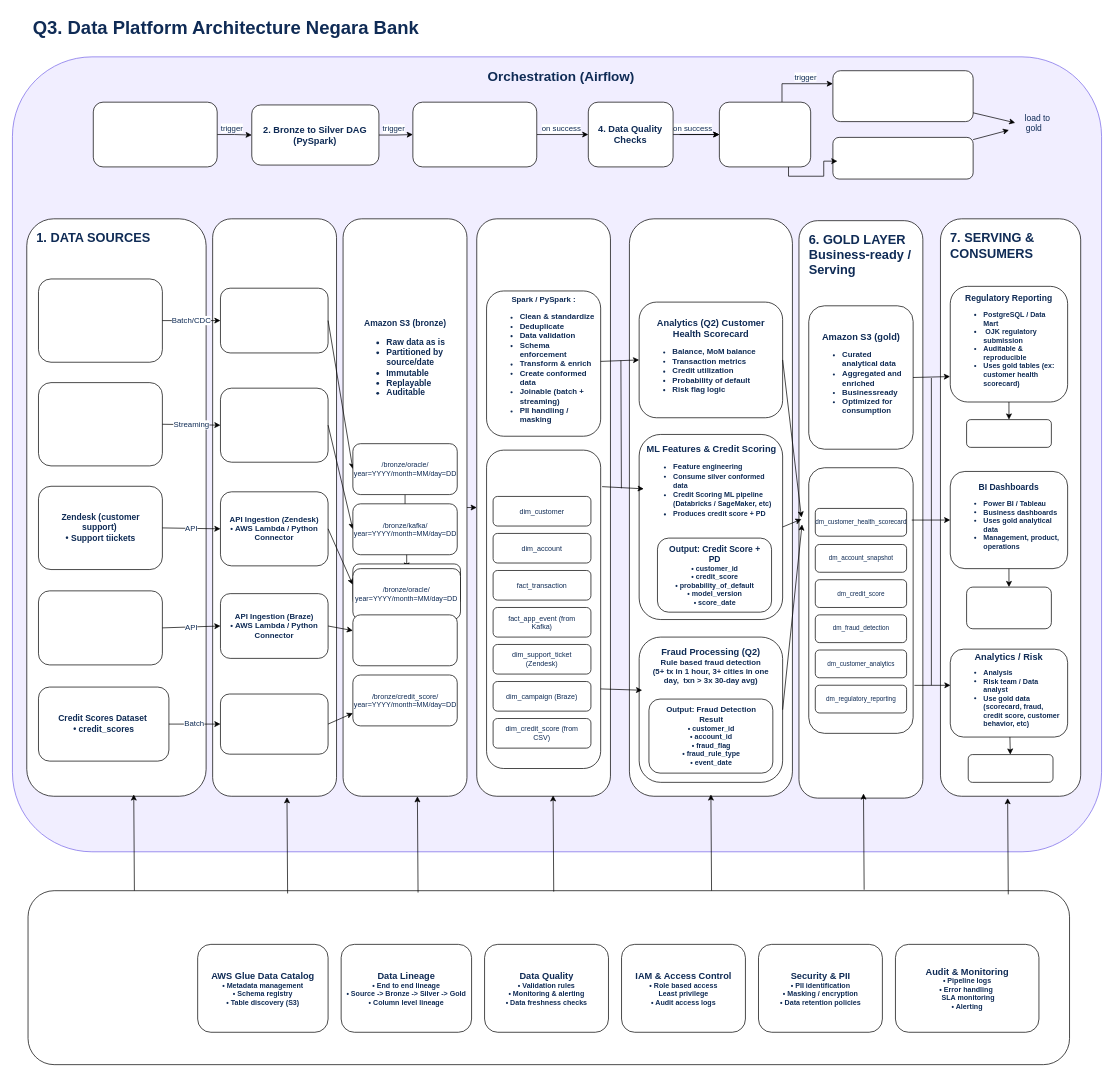
Image size: 1114x1077. Some labels were removed from this diagram. The shapes that lost their labels are listed below. From the top down, each one's box as (x1, y1, x2, y2) in pixels, then its label:
(832, 70, 973, 122): 6. Q2 Analytics (Scorecard) (PostgreSQL/SQL)
(93, 101, 217, 167): 1. Ingestion DAG (scheduled)
(412, 101, 537, 167): 3. Q1 Account Snapshot DAG (PySpark)
(719, 101, 811, 167): 5. Credit Scoring Pipeline (ML)
(832, 137, 973, 179): 7. Fraud Detection (Processing) (PySpark/SQL)
(38, 278, 162, 362): Oracle Core Banking • Accounts • Transactions • Customers
(220, 287, 328, 353): Batch Ingestion (Oracle CDC) • AWS DMS / Glue Connector
(38, 382, 162, 466): Kafka (mobile clickstream) • App events : 50K events/sec (peak), Real-time
(220, 387, 328, 462): Streaming Ingestion (Kafka) • Amazon MSK / Spark Structured Streaming
(966, 419, 1051, 447): OJK Regulator
(212, 218, 337, 796): 2. INGESTION LAYER
(342, 218, 467, 796): 3. BRONZE LAYER Raw / Immutable
(476, 218, 610, 796): 3. SILVER LAYER Clean + Conformed
(629, 218, 792, 796): 5. PROCESSING & ANALYTICS (From Silver to Business Outputs)
(486, 449, 601, 769): Conformed Data (Silver)
(808, 467, 913, 733): Gold Data Marts / Tables
(966, 586, 1051, 629): Business Users (Management, Product, Operations)
(38, 590, 162, 665): Braze (customer engagement) • acquisition channels
(352, 614, 457, 666): /bronze/braze/ year=YYYY/month=MM/day=DD
(220, 693, 328, 754): File Ingestion (CSV) • AWS S3 Put / Copy Job
(968, 754, 1053, 782): Risk / Analytics Users
(27, 890, 1070, 1065): 8. GOVERNANCE & METADATA (Cross-cutting Layer - Applies to All Layers)
